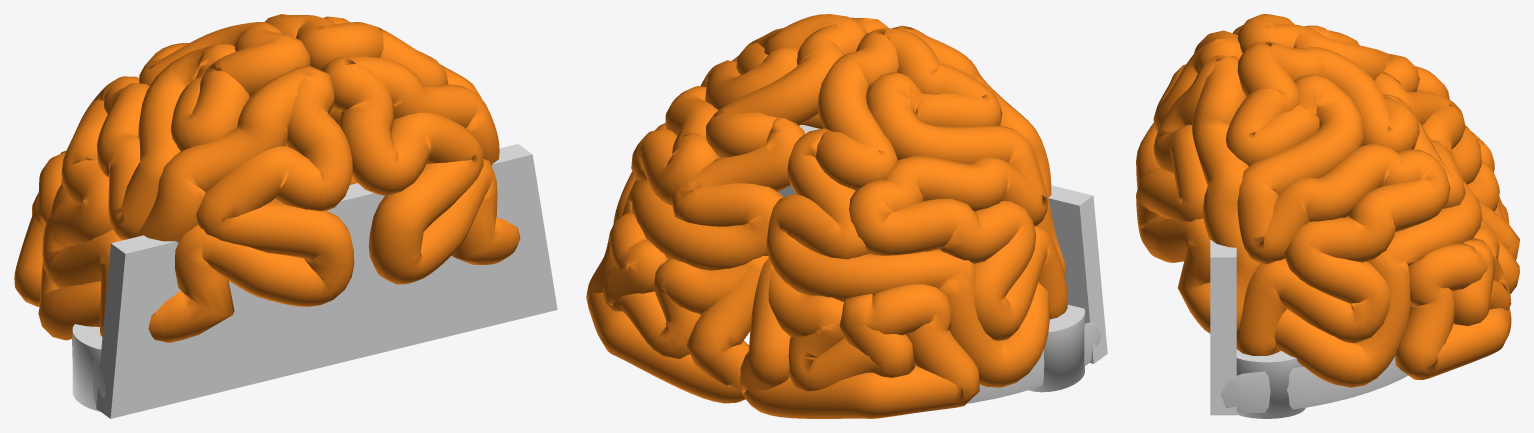
File: Frontal Room.fbx
3 views of the same model, side by side, from view 1: azimuth 30°, elevation 25°; view 2: azimuth 150°, elevation 25°; view 3: azimuth 270°, elevation 25° (orthographic). The views are drawn at different scales.
Parts seen in each view (by area): view 1: L Frontal, Cube, R Frontal, Cylinder.001; view 2: L Frontal, R Frontal, Cube, Cylinder.001, Cylinder; view 3: R Frontal, L Frontal, Cube, Cylinder, Cylinder.002.
Part boxes in pixels (box(x1,y1,x2,y2)): L Frontal: box(14, 22, 354, 342); Cube: box(96, 144, 557, 418); R Frontal: box(264, 14, 520, 284); Cylinder.001: box(72, 324, 102, 411); L Frontal: box(740, 25, 1067, 418); R Frontal: box(586, 14, 888, 403); Cube: box(778, 125, 1107, 363); Cylinder.001: box(1028, 304, 1084, 392); Cylinder: box(967, 322, 1100, 403); R Frontal: box(1136, 41, 1519, 387); L Frontal: box(1136, 14, 1519, 260); Cube: box(1210, 239, 1236, 415); Cylinder: box(1221, 217, 1408, 413); Cylinder.002: box(1236, 349, 1305, 418).
Bounding box in the file's own units: 47132 × 31882 × 38542.
